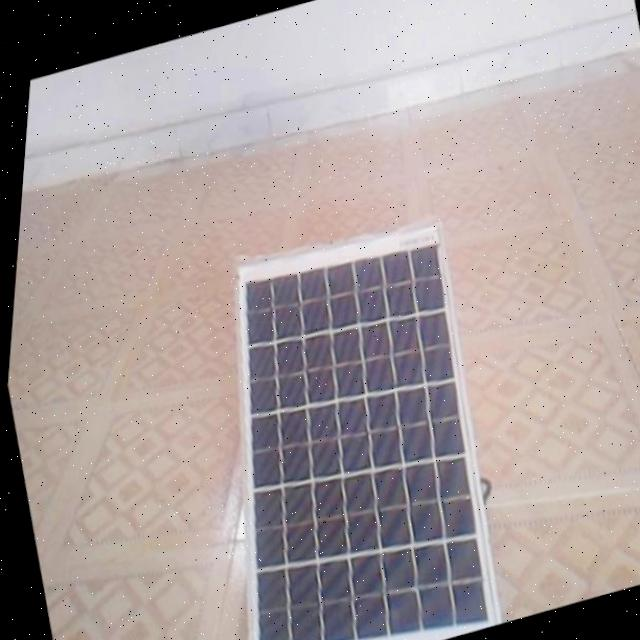Normal Solar Panel: (156, 203, 534, 640)
